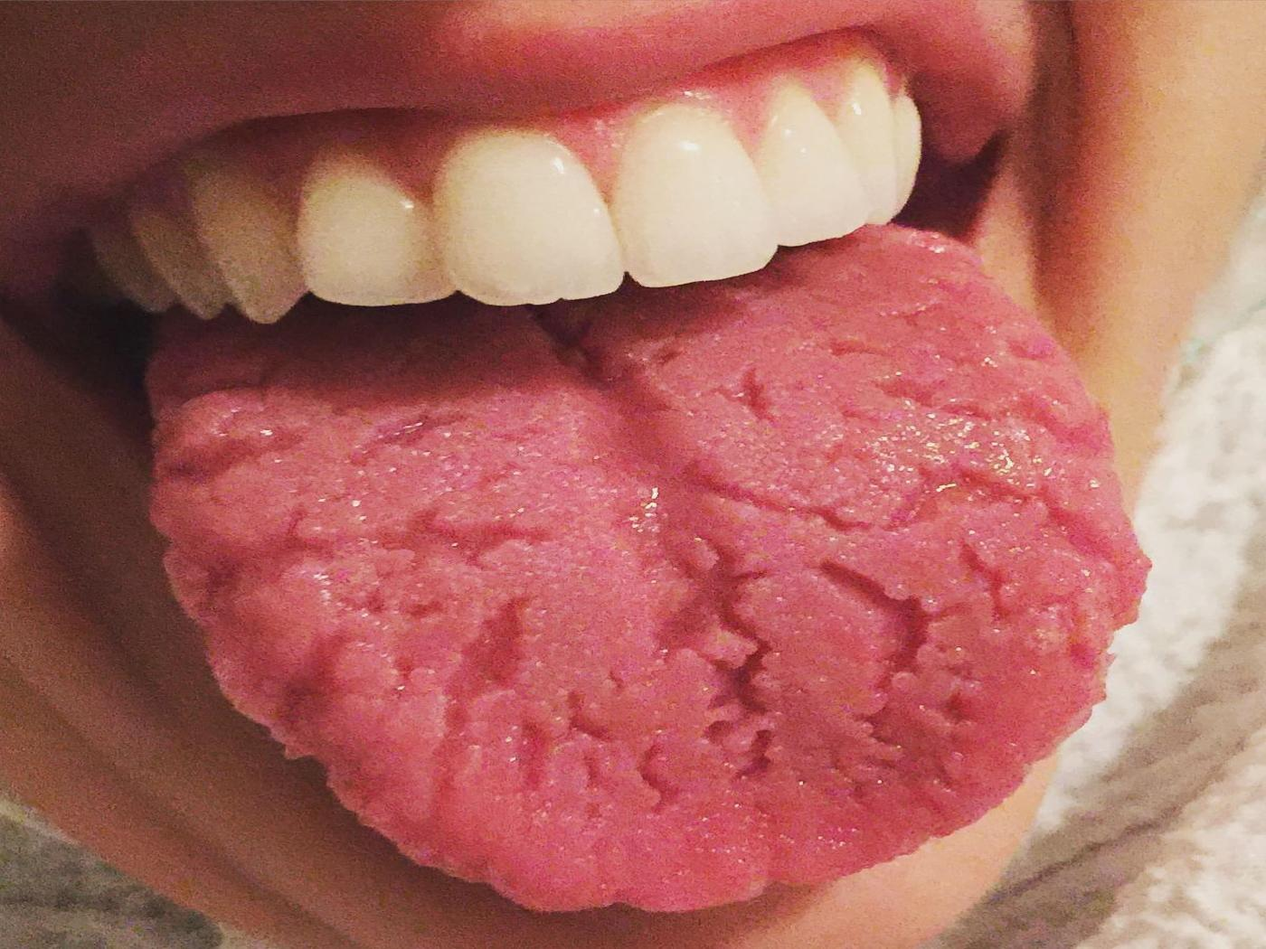hongshe: (148, 317, 1153, 914)
liewenshe: (146, 317, 1151, 814)
